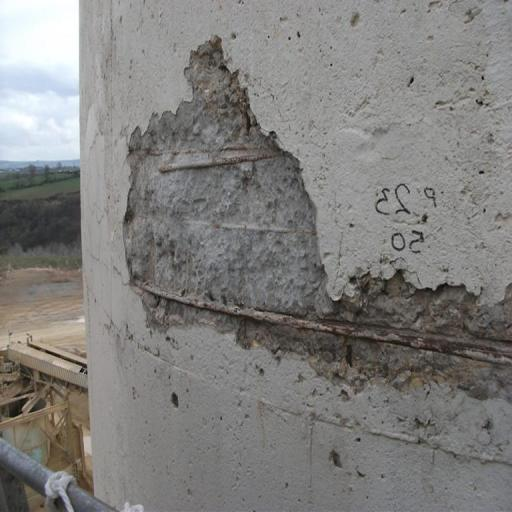spalling: (120, 29, 512, 410)
